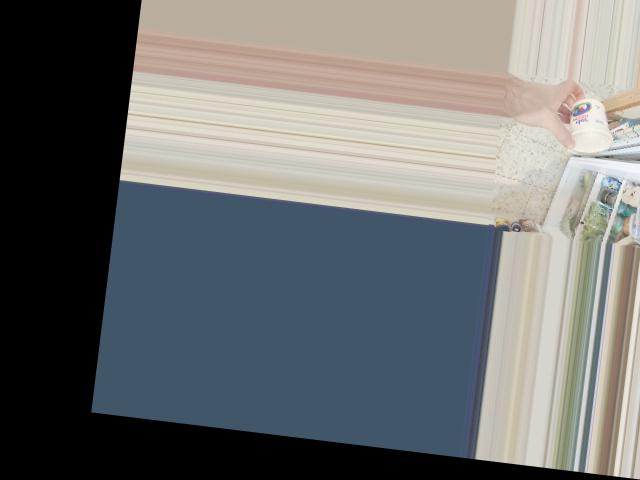cotage: (562, 95, 615, 154)
